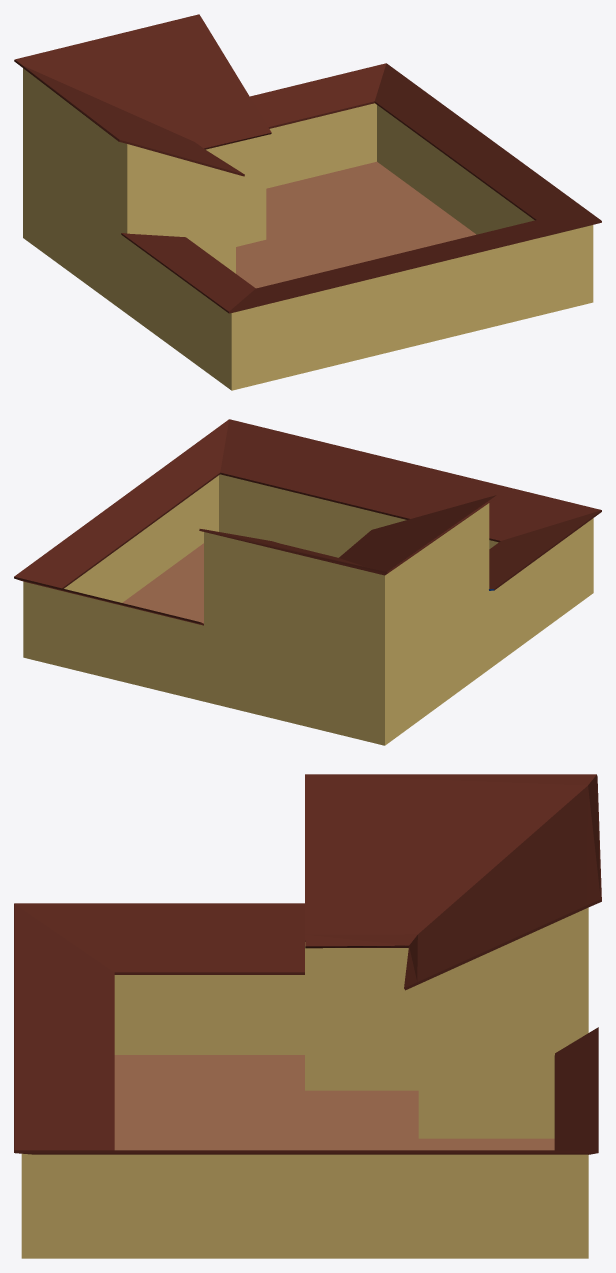
File: farm.obj
3 renders of one model, top to bottom at view 1: azimuth 30°, elevation 25°; view 2: azimuth 150°, elevation 25°; view 3: azimuth 270°, elevation 25°, orthographic. The views are drawn at different scales.
Visible parts, largest first — view 1: Plane; view 2: Plane; view 3: Plane.
Part boxes in pixels (<box>): Plane: <box>14,14,601,390</box>; Plane: <box>14,419,601,745</box>; Plane: <box>14,774,601,1258</box>.
Size of the model in its own units: 2.08 by 0.9377 by 2.07.
